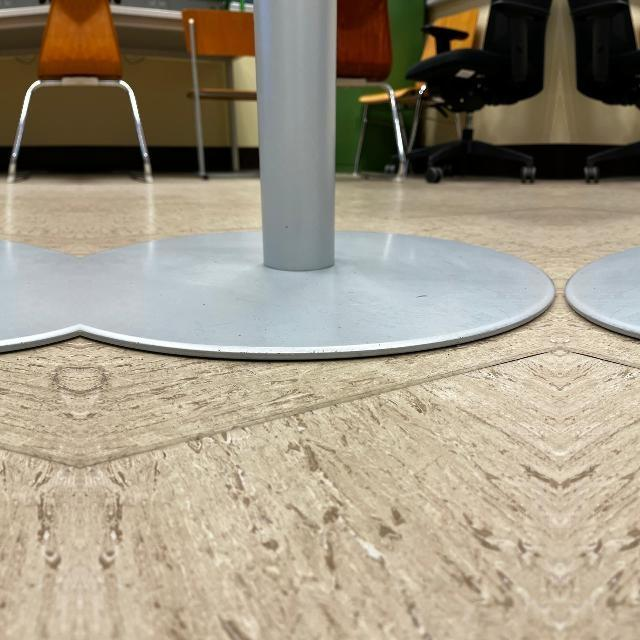obstacle: (80, 0, 552, 360), (0, 0, 80, 360), (568, 0, 640, 360)
